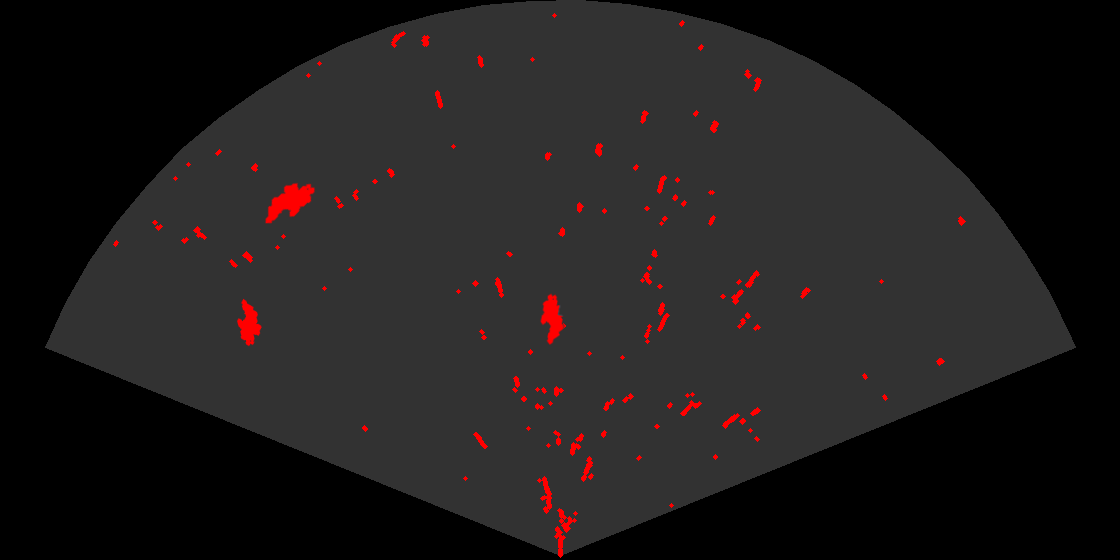AUV: (263, 181, 317, 225), (235, 297, 263, 348), (539, 292, 565, 346)
